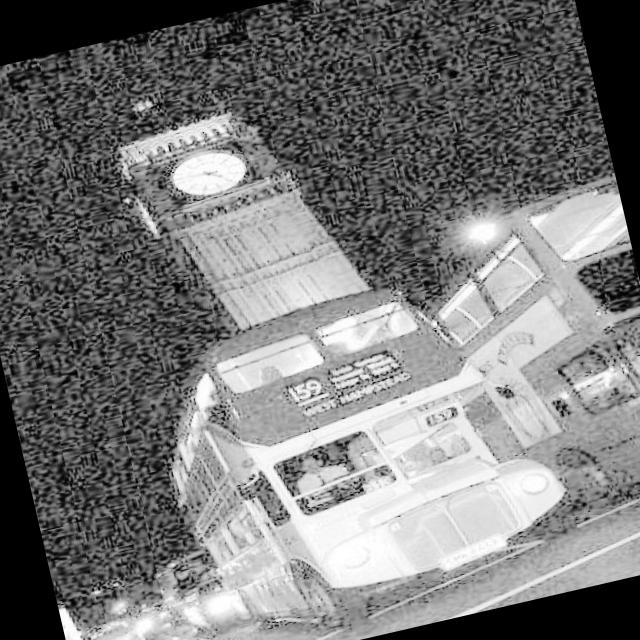Bus: (132, 248, 613, 640), (404, 161, 640, 536)
